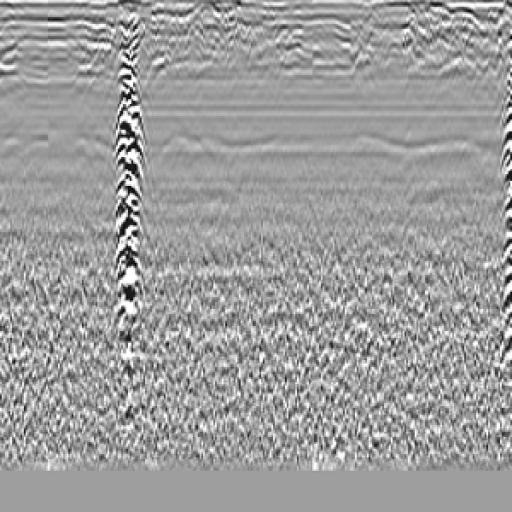metalic: (95, 18, 157, 396), (493, 30, 512, 378)
